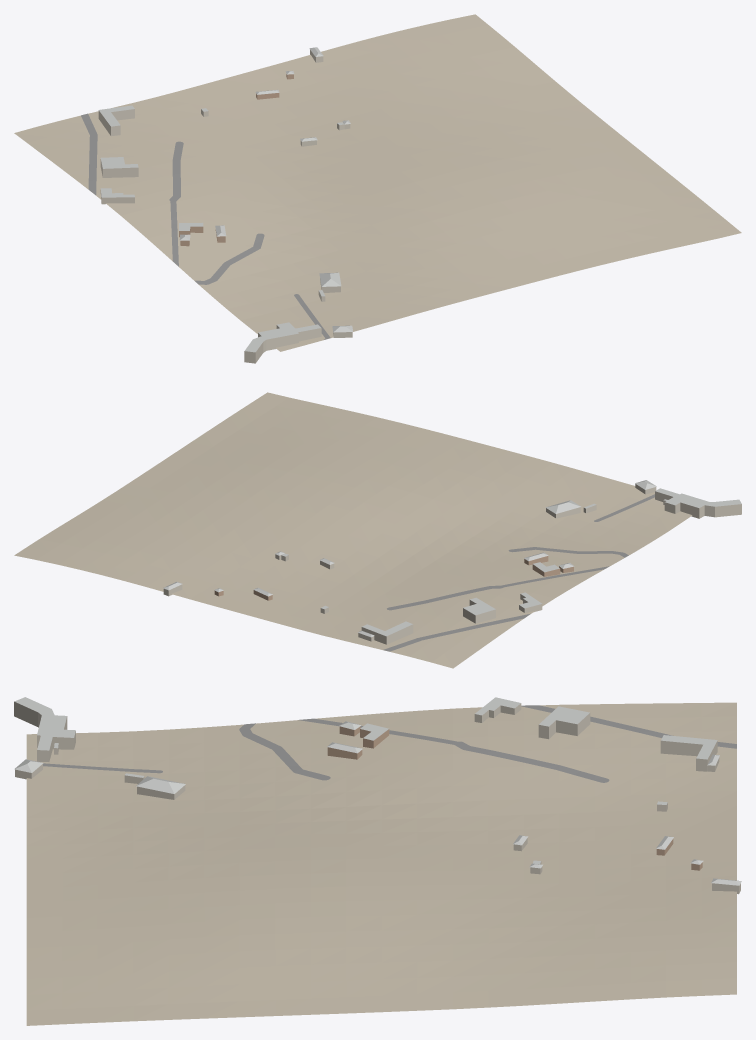
The model's file is bolak_8_-7.glb.
The picture shows the model from 3 angles, top to bottom: view 1: azimuth 30°, elevation 25°; view 2: azimuth 150°, elevation 25°; view 3: azimuth 270°, elevation 25°; orthographic projection. The views are drawn at different scales.
Parts seen in each view (by area): view 1: Yer_Tuproq-col, Tom_Shifer, Devor_Suvoq-col, Yol_Mahalla-col; view 2: Yer_Tuproq-col, Devor_Suvoq-col, Tom_Shifer, Yol_Mahalla-col, Devor_Gisht-col; view 3: Yer_Tuproq-col, Tom_Shifer, Devor_Suvoq-col, Yol_Mahalla-col, Devor_Gisht-col.
Boxes of the visible parts, x1=… form: Yer_Tuproq-col: x1=14, y1=14, x2=741, y2=351; Tom_Shifer: x1=99, y1=47, x2=353, y2=352; Devor_Suvoq-col: x1=98, y1=50, x2=352, y2=363; Yol_Mahalla-col: x1=81, y1=113, x2=330, y2=339; Yer_Tuproq-col: x1=14, y1=392, x2=692, y2=668; Devor_Suvoq-col: x1=163, y1=484, x2=741, y2=644; Tom_Shifer: x1=163, y1=480, x2=741, y2=637; Yol_Mahalla-col: x1=383, y1=494, x2=654, y2=651; Devor_Gisht-col: x1=214, y1=556, x2=573, y2=600; Yer_Tuproq-col: x1=26, y1=702, x2=736, y2=1025; Tom_Shifer: x1=14, y1=697, x2=741, y2=885; Devor_Suvoq-col: x1=14, y1=701, x2=740, y2=894; Yol_Mahalla-col: x1=43, y1=705, x2=736, y2=782; Devor_Gisht-col: x1=327, y1=726, x2=702, y2=870.
Size of what is drawn, in the model's own units: 432 by 30.96 by 410.
